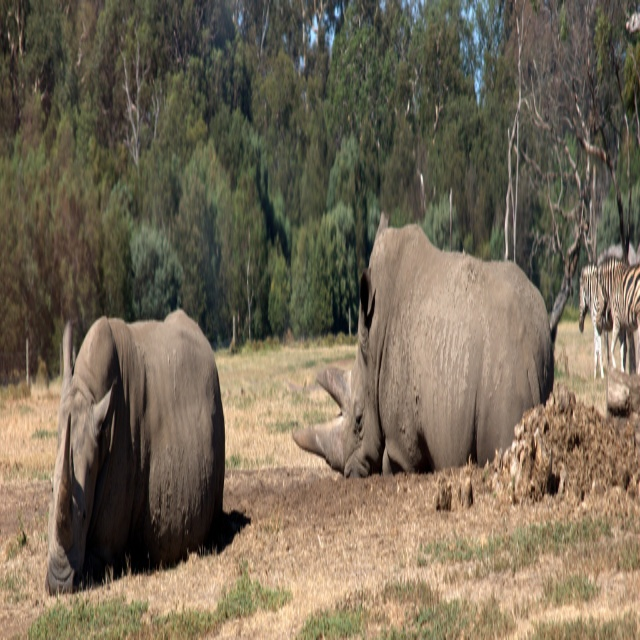Rhinoceros: (286, 221, 554, 484), (45, 288, 229, 602)
